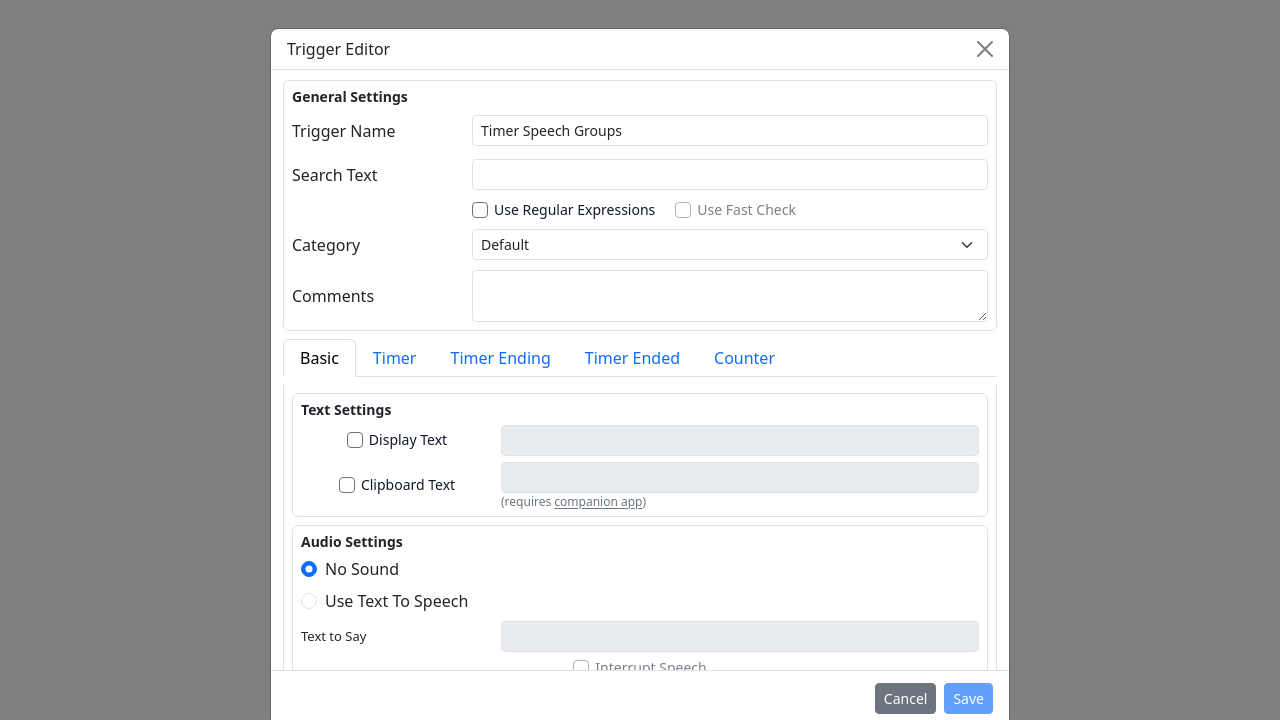
Test: TriggerEditorDialog › keeps timer ended text-to-speech radios independent from other tabs
The image size is (1280, 720).
Click the tab "Timer Ending": coordinates (501, 358) [434, 339, 568, 377]
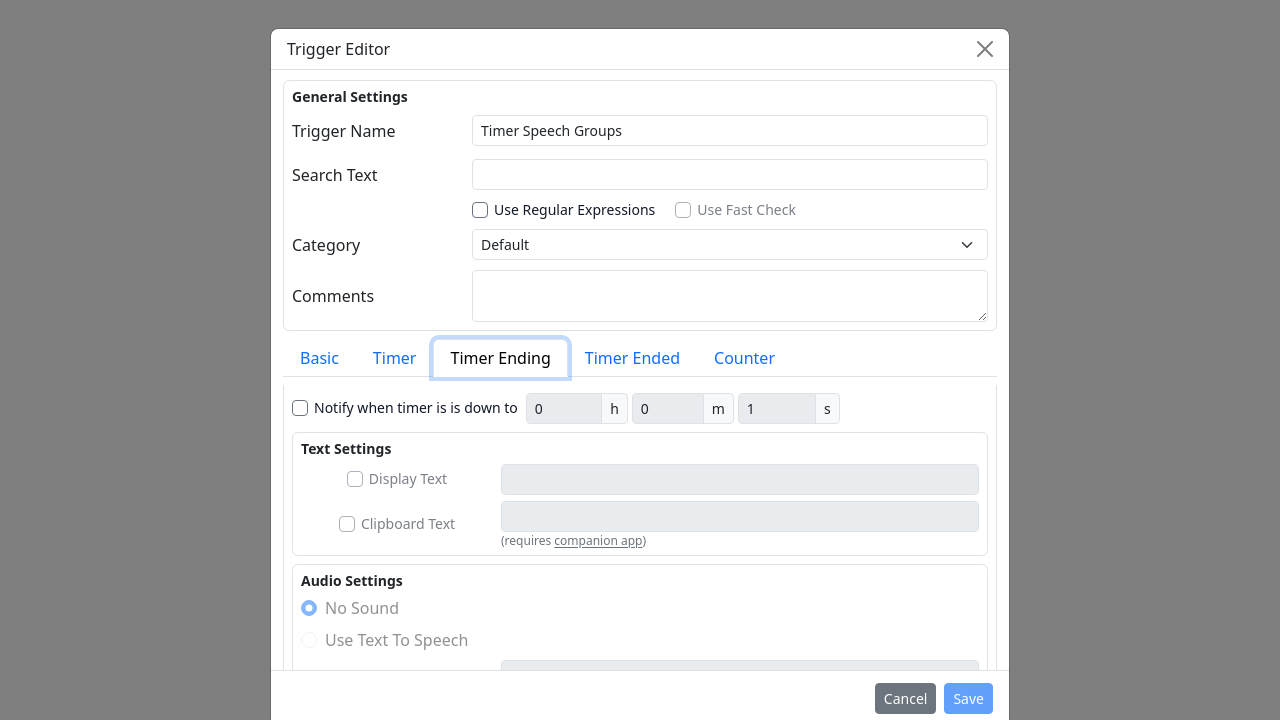
Click the tab "Timer Ended": coordinates (632, 358) [568, 339, 697, 377]
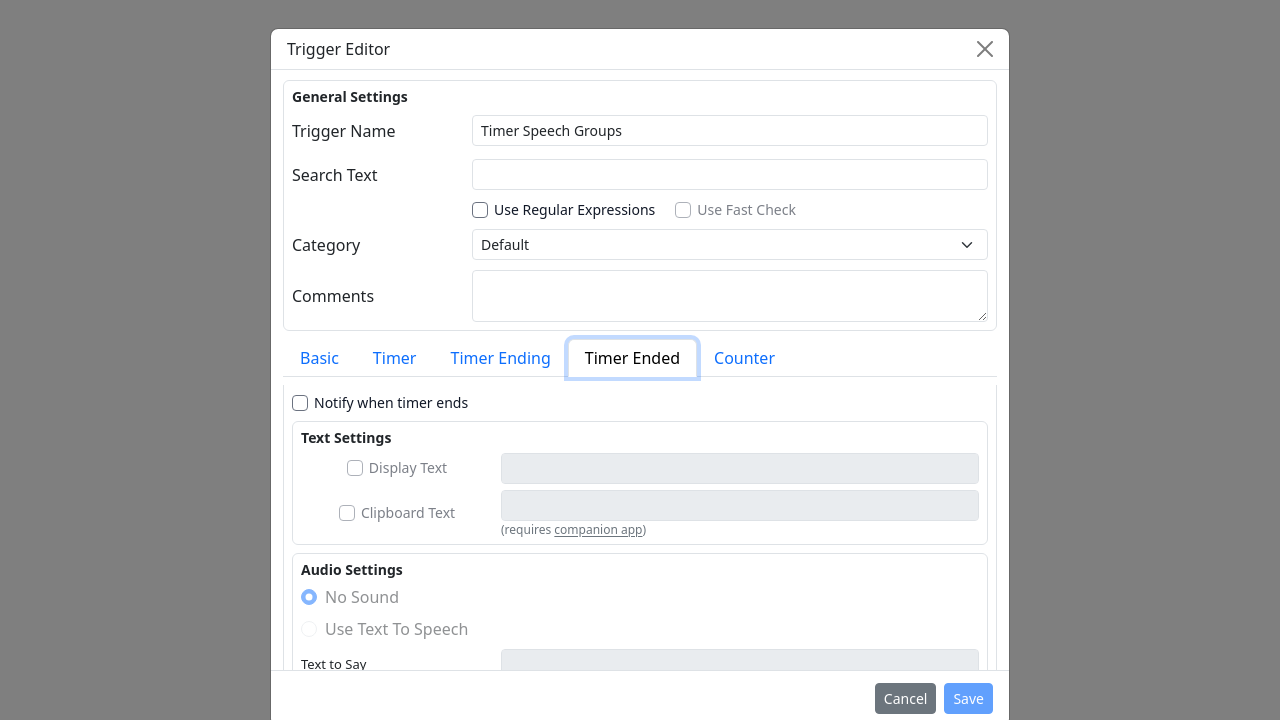
Result: the number of fields labelled "Use Text To Speech" is 3
